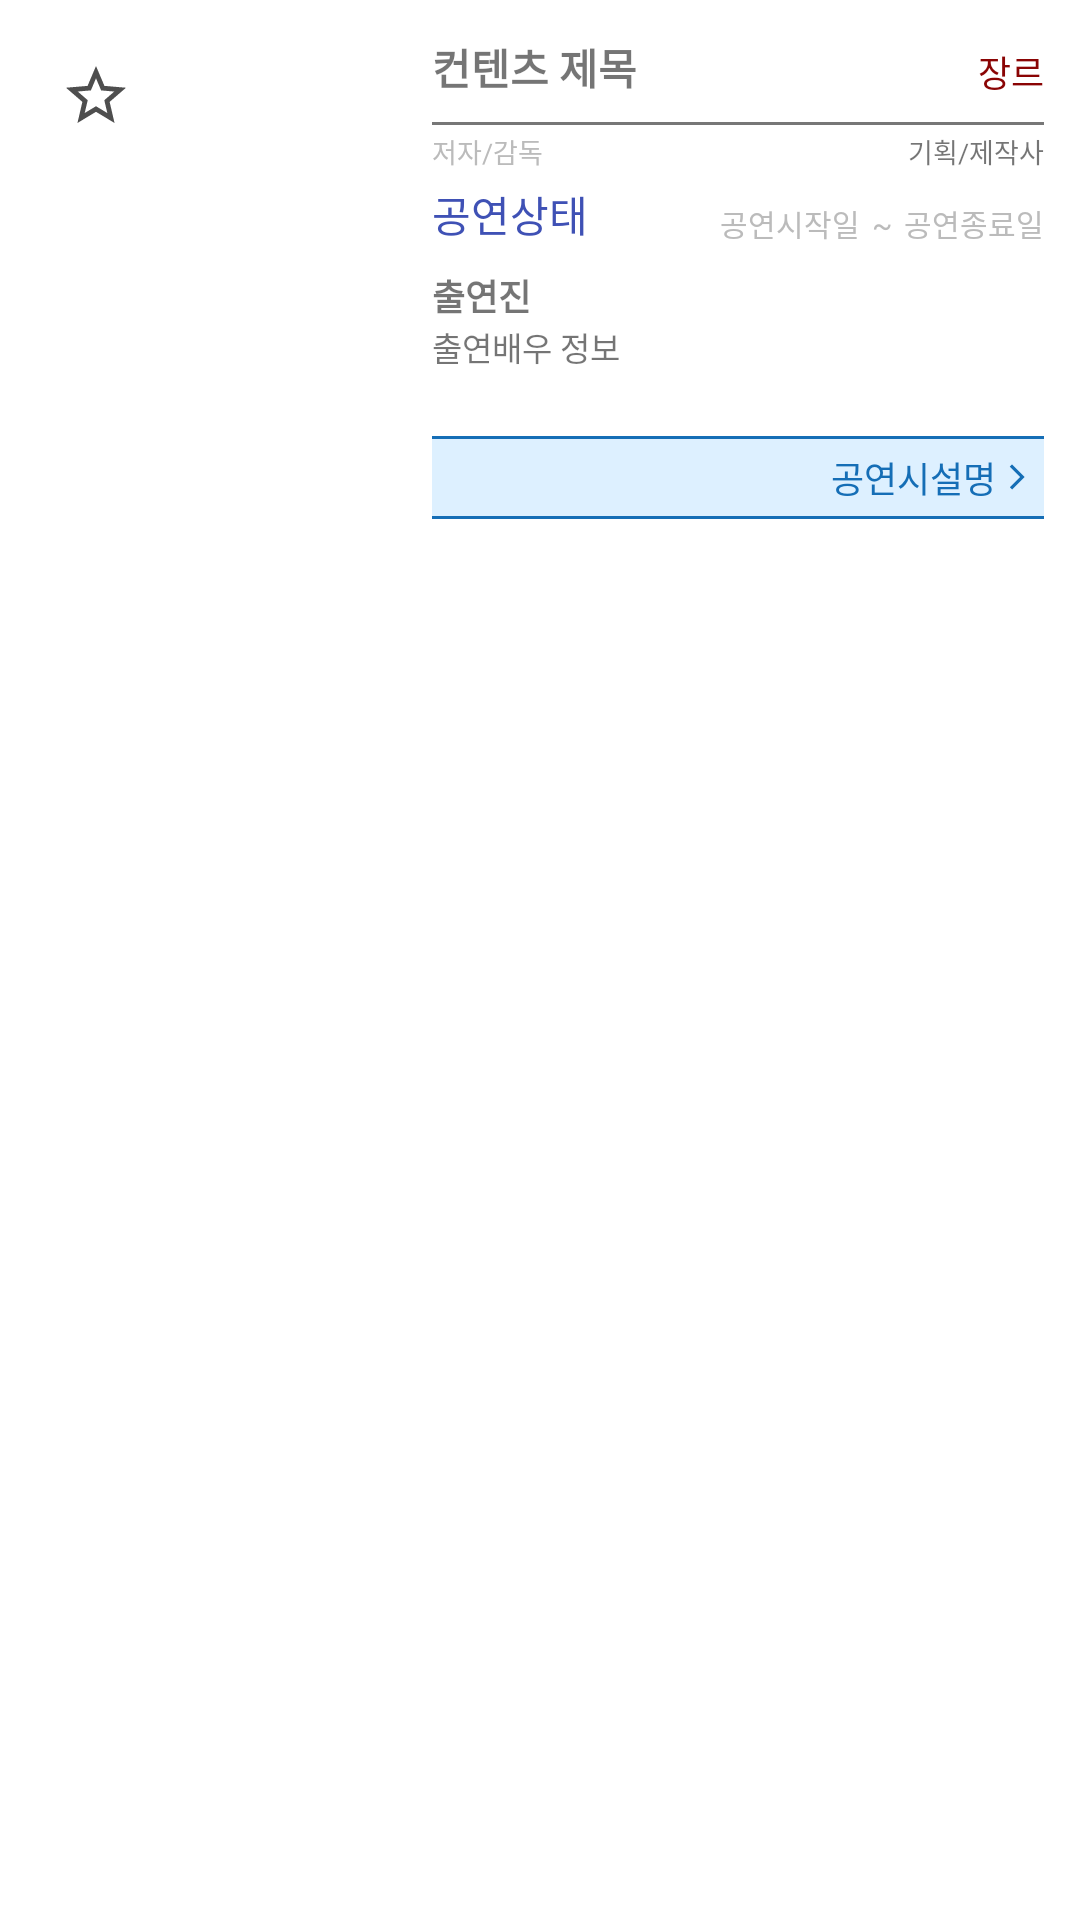

Screen size 1080px×1920px. Icon name, then its center in pixels as point (x, y):
star border: point (96, 94)
